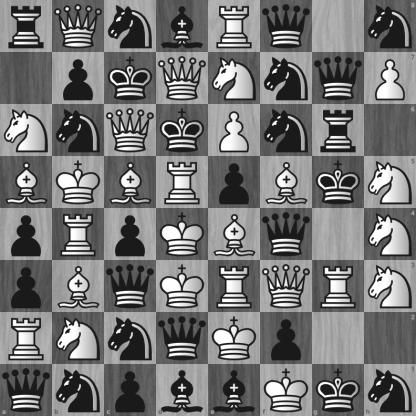B: (1, 157, 52, 208), (53, 261, 104, 312), (105, 157, 156, 208), (209, 209, 260, 260), (261, 157, 312, 208)
K: (260, 364, 312, 416), (53, 157, 104, 208), (157, 209, 208, 260), (157, 261, 208, 312), (209, 313, 260, 364)
N: (364, 156, 416, 209), (364, 260, 416, 312), (364, 209, 416, 260), (1, 105, 52, 156), (53, 313, 104, 364), (209, 53, 260, 104)
P: (364, 52, 416, 104), (209, 105, 260, 156)
Q: (53, 1, 104, 52), (105, 105, 156, 156), (157, 53, 208, 104), (261, 261, 312, 312)
R: (1, 313, 52, 364), (53, 209, 104, 260), (157, 157, 208, 208), (209, 1, 260, 52), (209, 261, 260, 312), (313, 261, 364, 312)
b: (156, 364, 209, 416), (209, 364, 260, 416), (157, 1, 208, 52)
board: (0, 0, 415, 415)
k: (312, 364, 364, 416), (105, 53, 156, 104), (157, 105, 208, 156), (313, 157, 364, 208)
n: (52, 364, 104, 416), (364, 0, 416, 52), (364, 364, 416, 416), (53, 105, 104, 156), (105, 1, 156, 52), (105, 313, 156, 364), (261, 53, 312, 104), (261, 105, 312, 156)
p: (104, 364, 156, 416), (1, 209, 52, 260), (1, 261, 52, 312), (53, 53, 104, 104), (105, 209, 156, 260), (209, 157, 260, 208), (261, 313, 312, 364)
q: (0, 364, 52, 416), (105, 261, 156, 312), (157, 313, 208, 364), (261, 1, 312, 52), (261, 209, 312, 260), (313, 53, 364, 104)
r: (1, 1, 52, 52), (313, 105, 364, 156)
